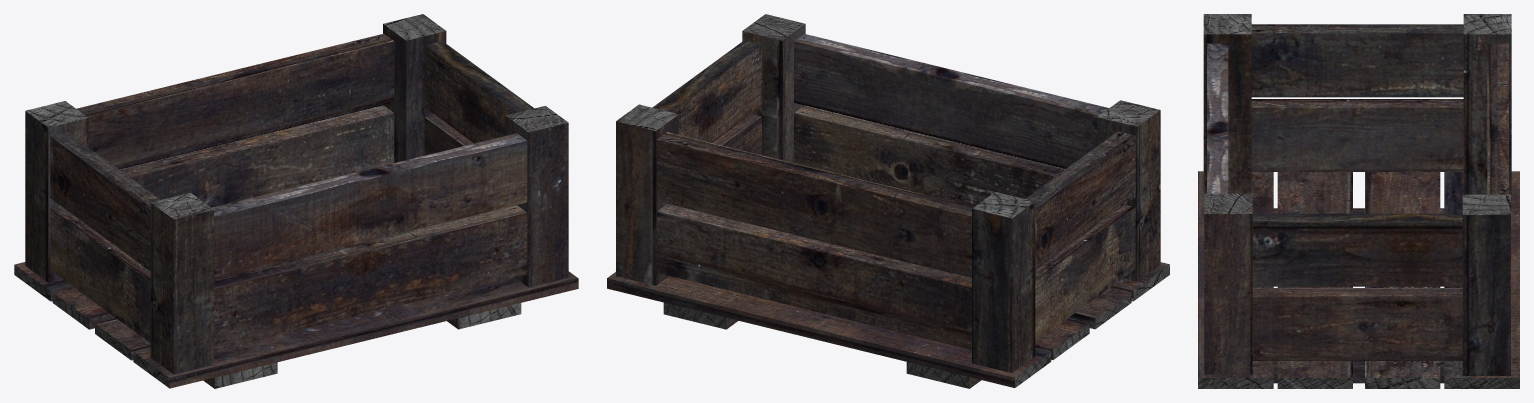
Rendered from fruit_crate_small.fbx.
The picture shows the model from 3 angles, left to right: view 1: azimuth 30°, elevation 25°; view 2: azimuth 150°, elevation 25°; view 3: azimuth 270°, elevation 25°; orthographic projection. The views are drawn at different scales.
Parts seen in each view (by area): view 1: Crate1_4; view 2: Crate1_4; view 3: Crate1_4.
Boxes of the visible parts, <box> form: Crate1_4: <box>14,14,578,388</box>; Crate1_4: <box>607,14,1169,388</box>; Crate1_4: <box>1198,14,1519,388</box>.
Size of the model in its own units: 0.6545 by 0.2819 by 0.4303.
